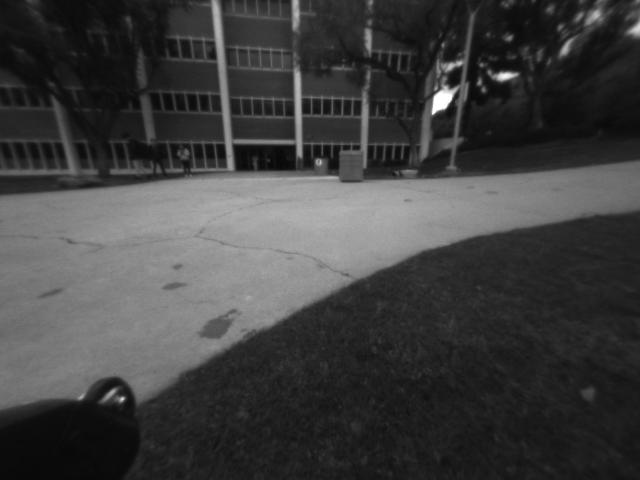trashcan: (339, 148, 364, 185), (312, 154, 329, 174)
